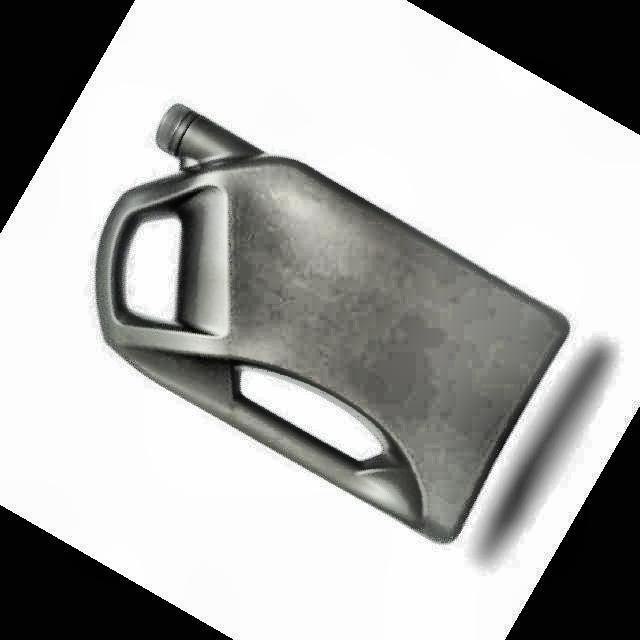plastic: (96, 104, 569, 542)
